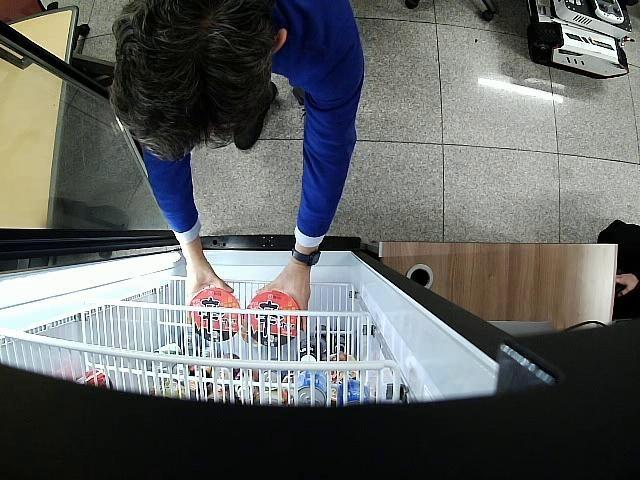01_ShinRamen_L: (243, 291, 302, 347), (190, 286, 242, 342)
